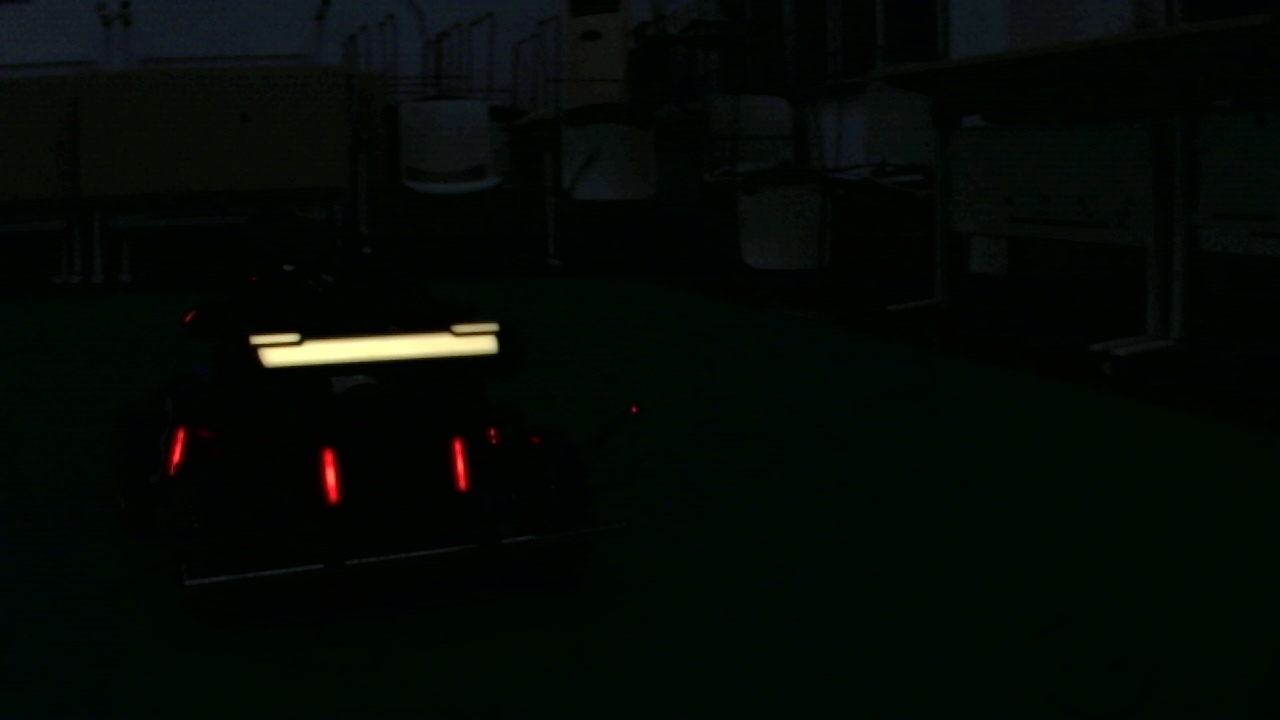lamp: (314, 435, 345, 505), (448, 433, 470, 490), (167, 419, 185, 476)
notpair1: (168, 420, 346, 506)
pair1: (318, 437, 473, 503)
